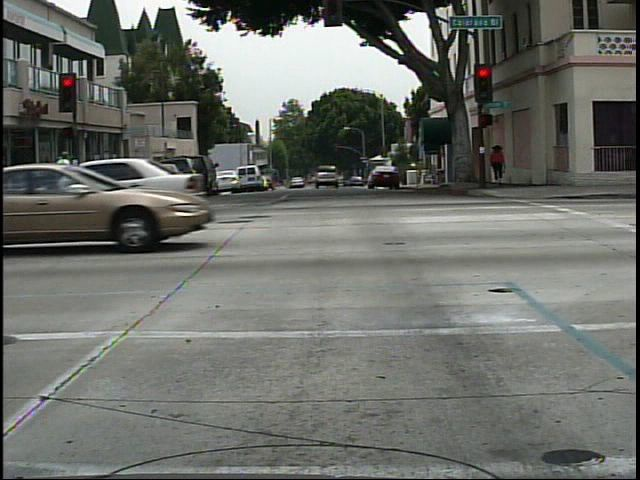person: (48, 143, 77, 205), (489, 141, 507, 186)
